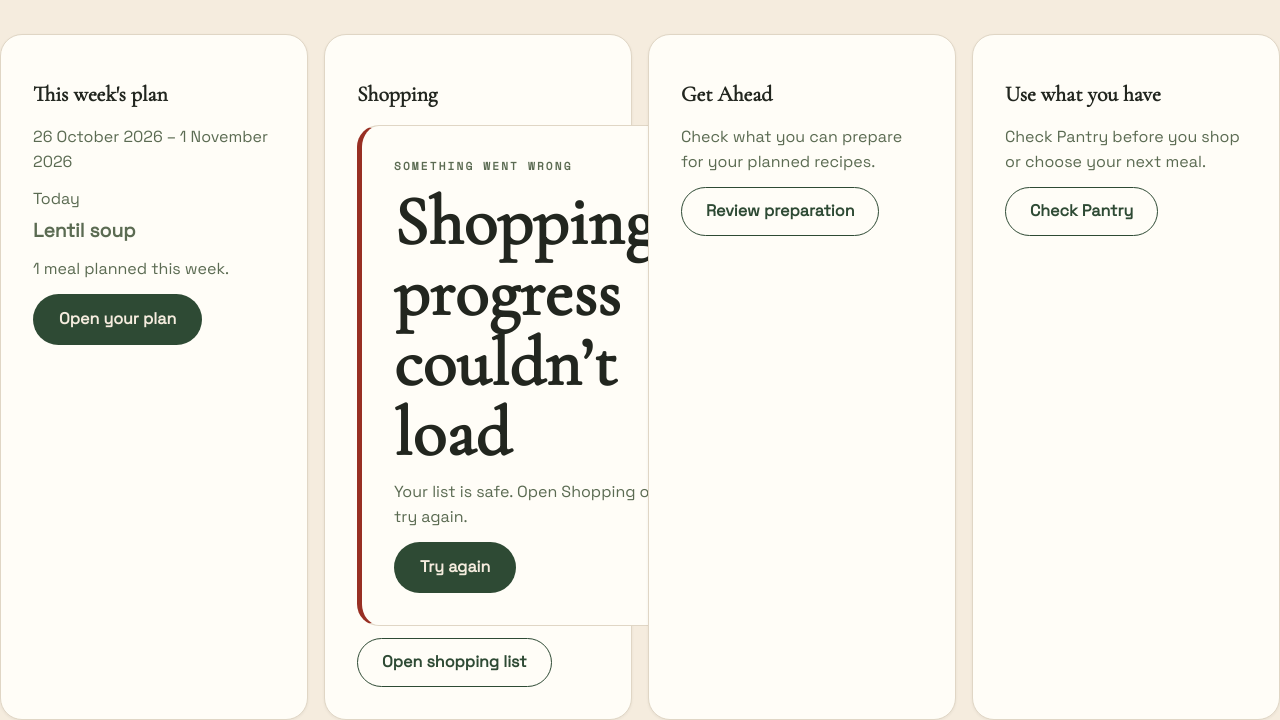
it: keeps a working plan usable when shopping fails and retries safely
(page scrolled)
Expected: the heading "Shopping progress couldn’t load" is shown, [394,187,656,468]
Expected: the text "Lentil soup" is shown, [33,216,136,246]
Step 1. Click the button "Try again" → (455, 567), box [394,542,516,593]
(page scrolled)
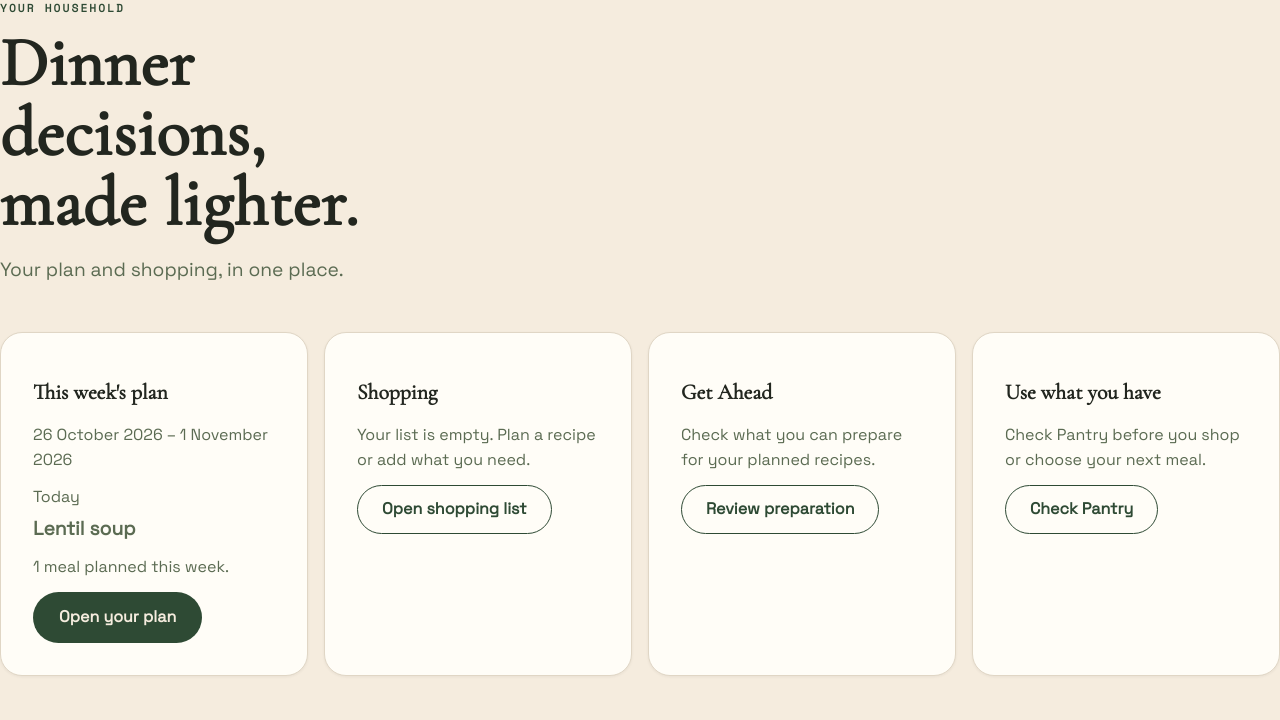
Expected: the text "Your list is empty. Plan a recipe or add what you need." is shown, [357,423,599,473]
